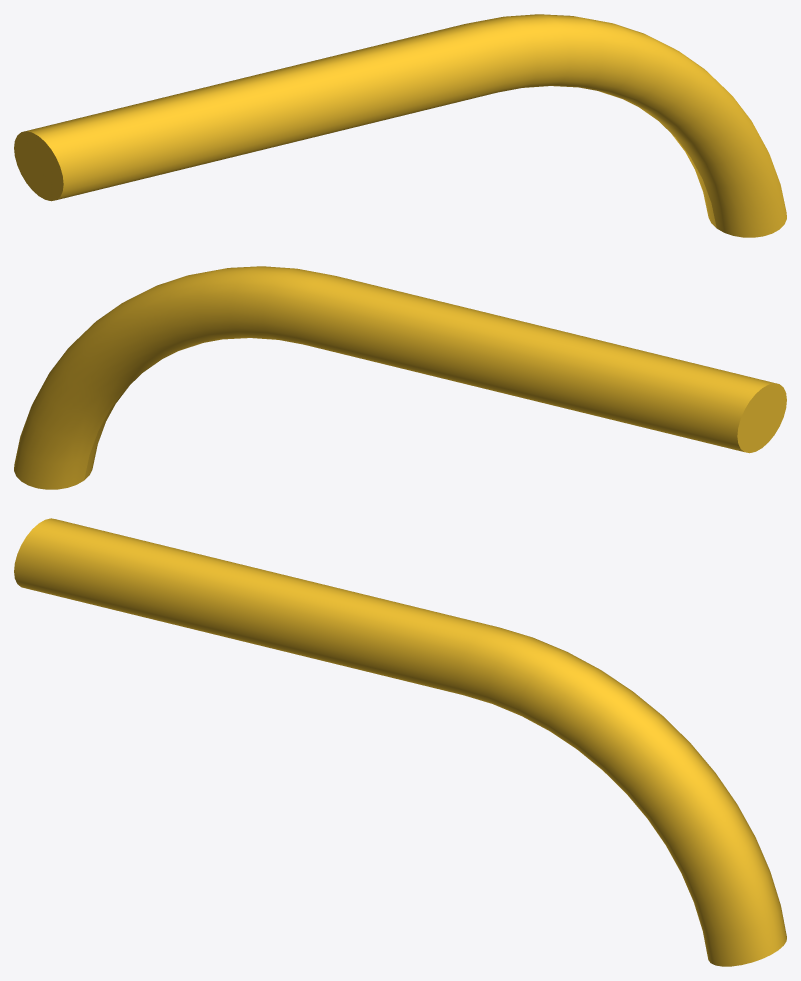
Rendered from original-62.obj.
3 renders of one model, top to bottom at view 1: azimuth 30°, elevation 25°; view 2: azimuth 150°, elevation 25°; view 3: azimuth 330°, elevation 25°, orthographic.
Parts seen in each view (by area): view 1: Group48/mesh74/mesh74-geometry#mesh74-geometry; view 2: Group48/mesh74/mesh74-geometry#mesh74-geometry; view 3: Group48/mesh74/mesh74-geometry#mesh74-geometry.
Part boxes in pixels (bbox=[...]): Group48/mesh74/mesh74-geometry#mesh74-geometry: bbox=[14, 14, 786, 237]; Group48/mesh74/mesh74-geometry#mesh74-geometry: bbox=[14, 266, 786, 489]; Group48/mesh74/mesh74-geometry#mesh74-geometry: bbox=[14, 518, 786, 966].
Bounding box in the file's own units: 0.1326 × 0.0442 × 0.0154.
